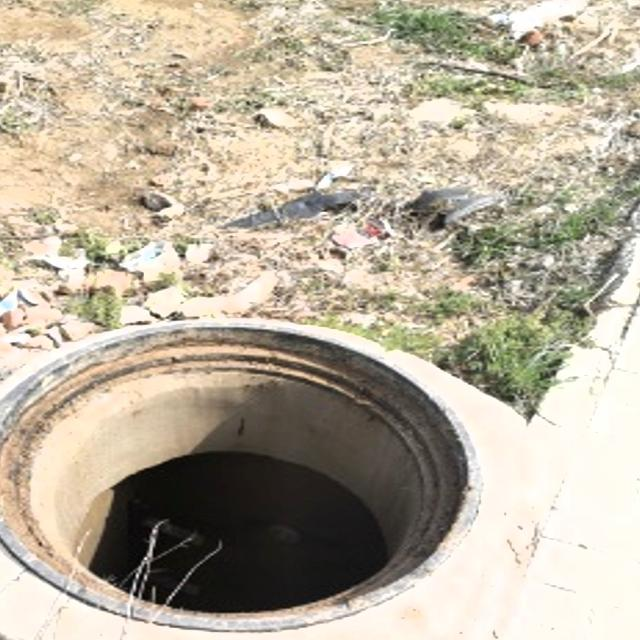lose: (0, 301, 492, 619)
